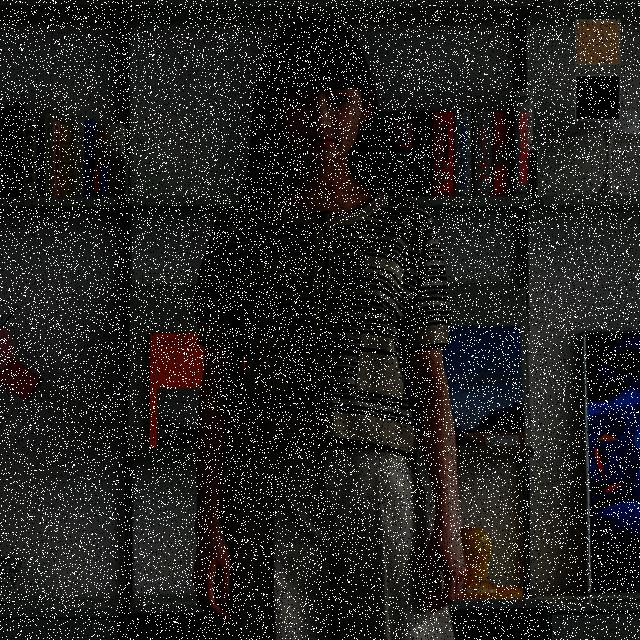Blouse_deep: (196, 191, 452, 468)
